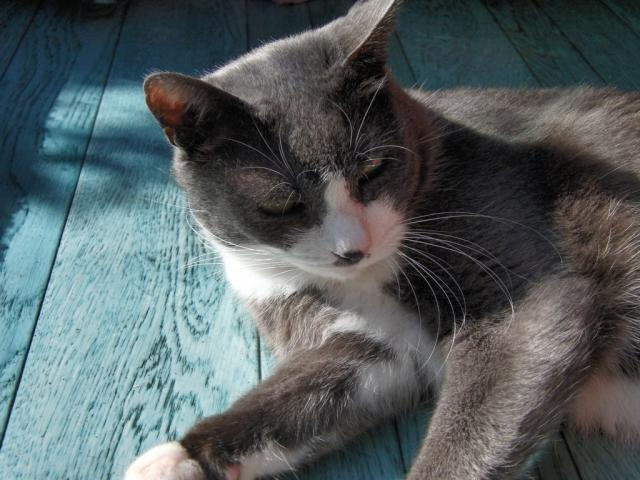Cat: (126, 0, 640, 477)
